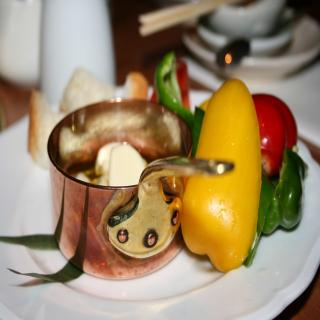Bell pepper: (179, 75, 259, 267), (190, 108, 309, 235), (264, 160, 310, 242), (251, 94, 295, 174), (154, 52, 193, 123)
